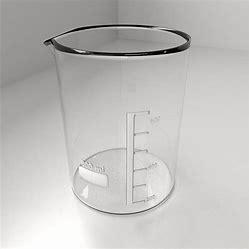Beaker: (43, 21, 192, 213)
